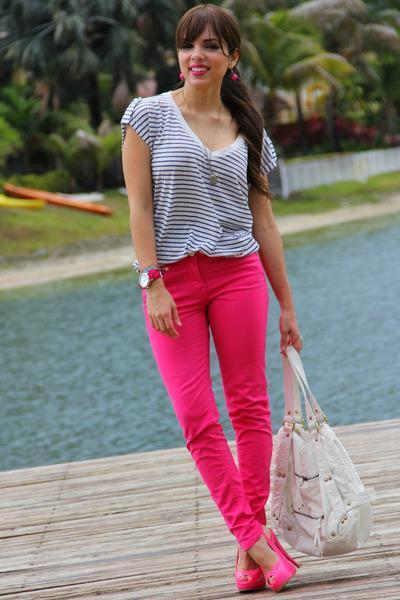short sleeve shirt: (118, 88, 283, 268)
trousers: (133, 249, 279, 548)
